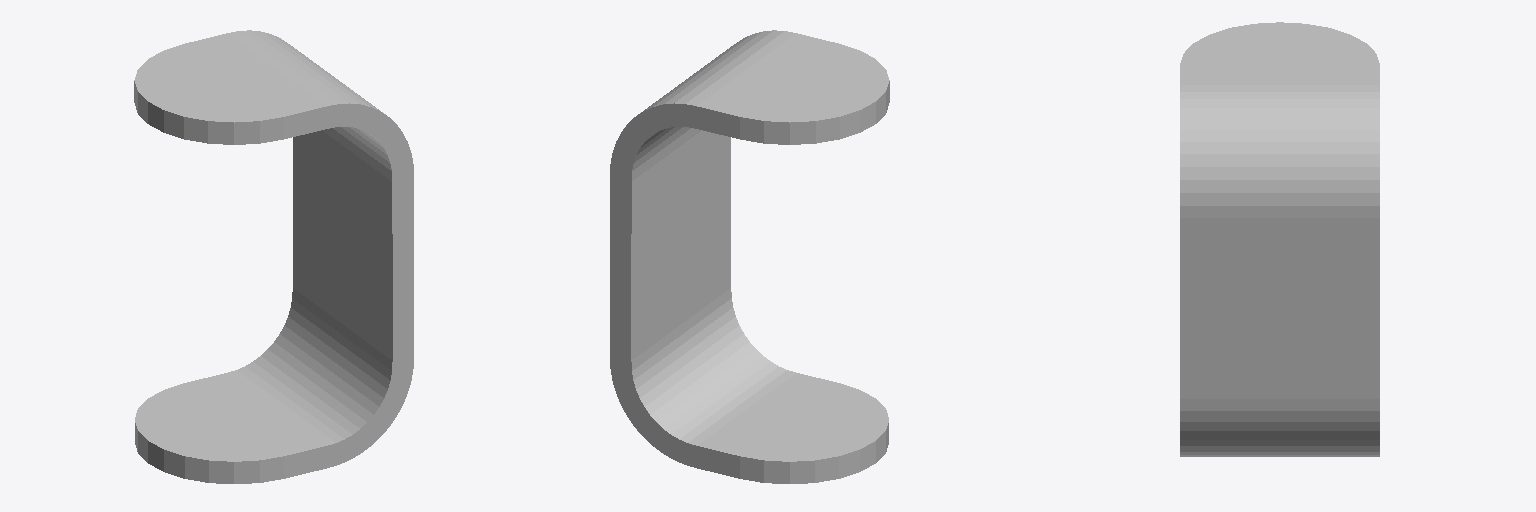
The model's file is Axis4.obj.
3 renders of one model, left to right at view 1: azimuth 30°, elevation 25°; view 2: azimuth 150°, elevation 25°; view 3: azimuth 270°, elevation 25°, orthographic.
Parts seen in each view (by area): view 1: Mesh1 Group1 Model; view 2: Mesh1 Group1 Model; view 3: Mesh1 Group1 Model.
Boxes of the visible parts, x1,y1,x2,y2 form: Mesh1 Group1 Model: [134, 30, 413, 483]; Mesh1 Group1 Model: [610, 30, 889, 483]; Mesh1 Group1 Model: [1180, 22, 1379, 456].
Size of the model in its own units: 0.05 by 0.08 by 0.04.